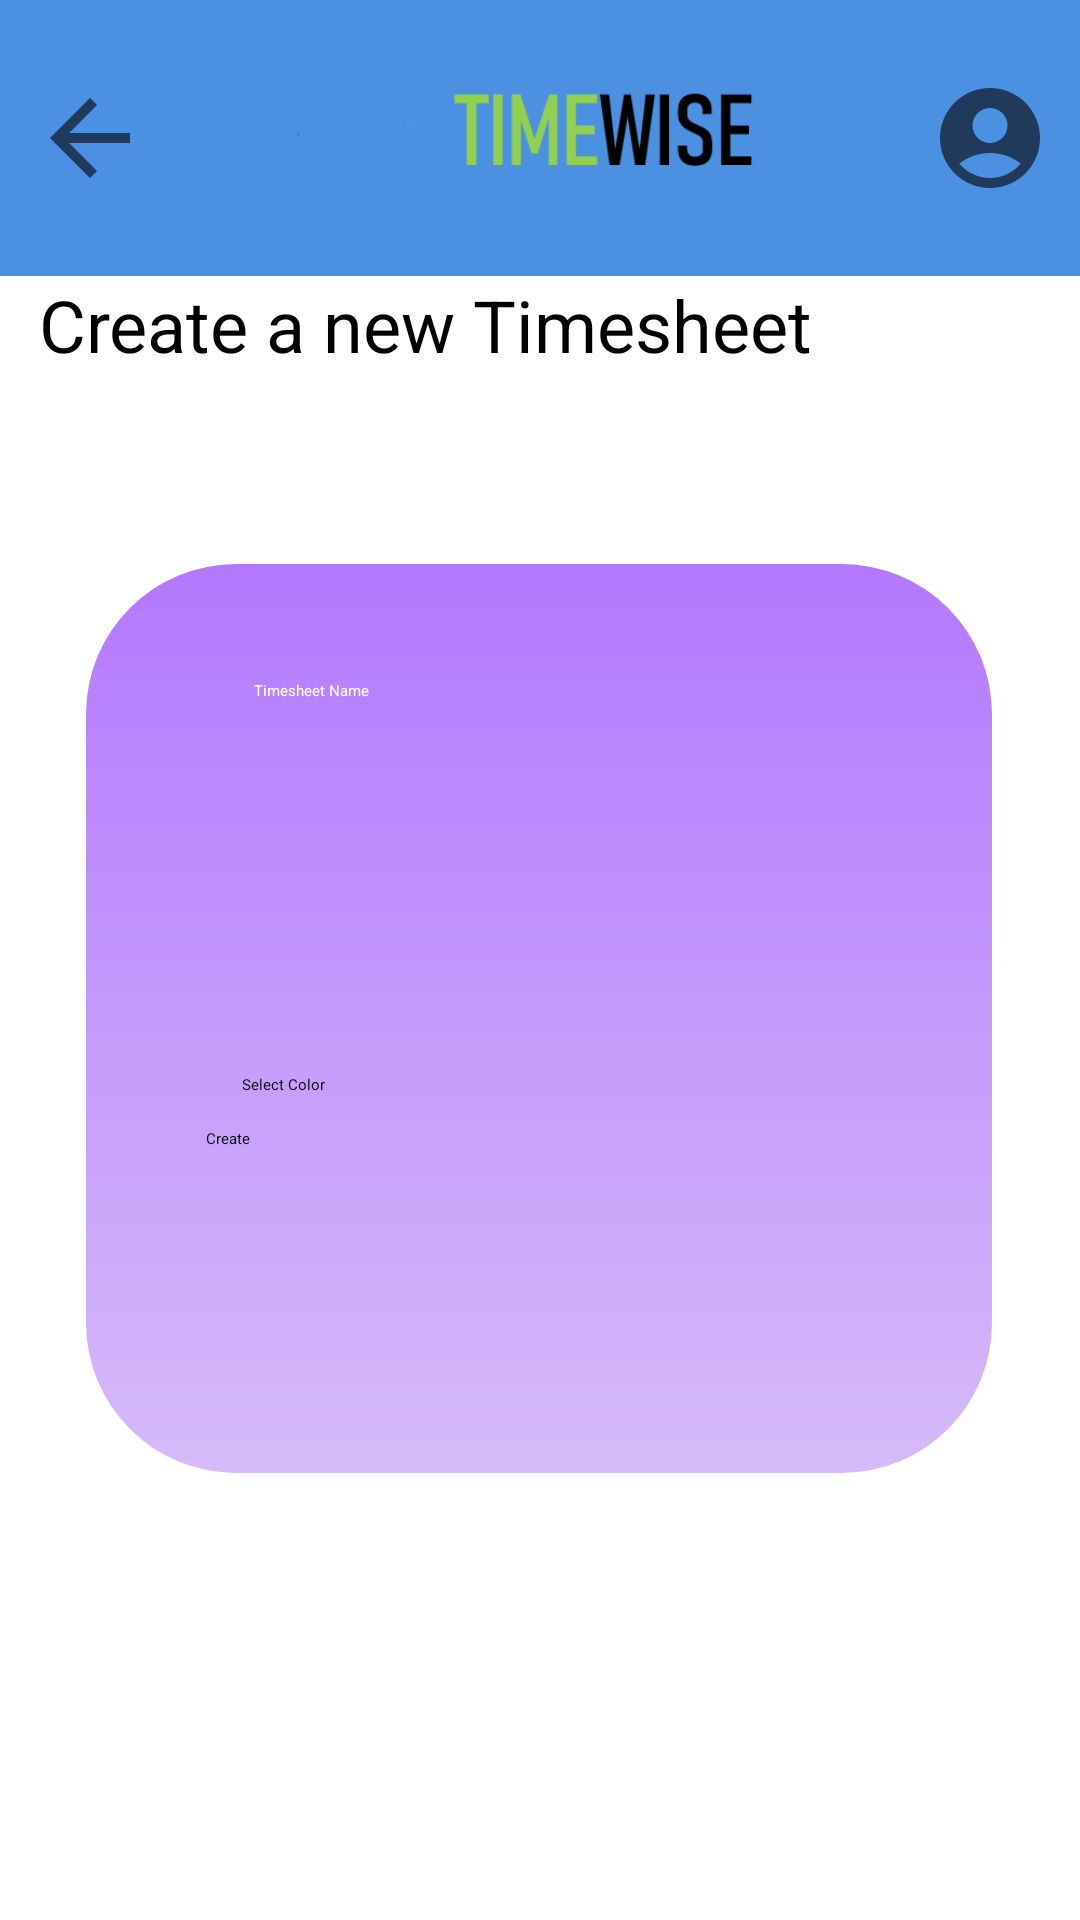

Screen size 1080px×1920px. Icon name, then its box in pixels as (x1, y1, x2, y2):
account circle: (940, 88, 1040, 188)
arrow back: (50, 98, 130, 178)
